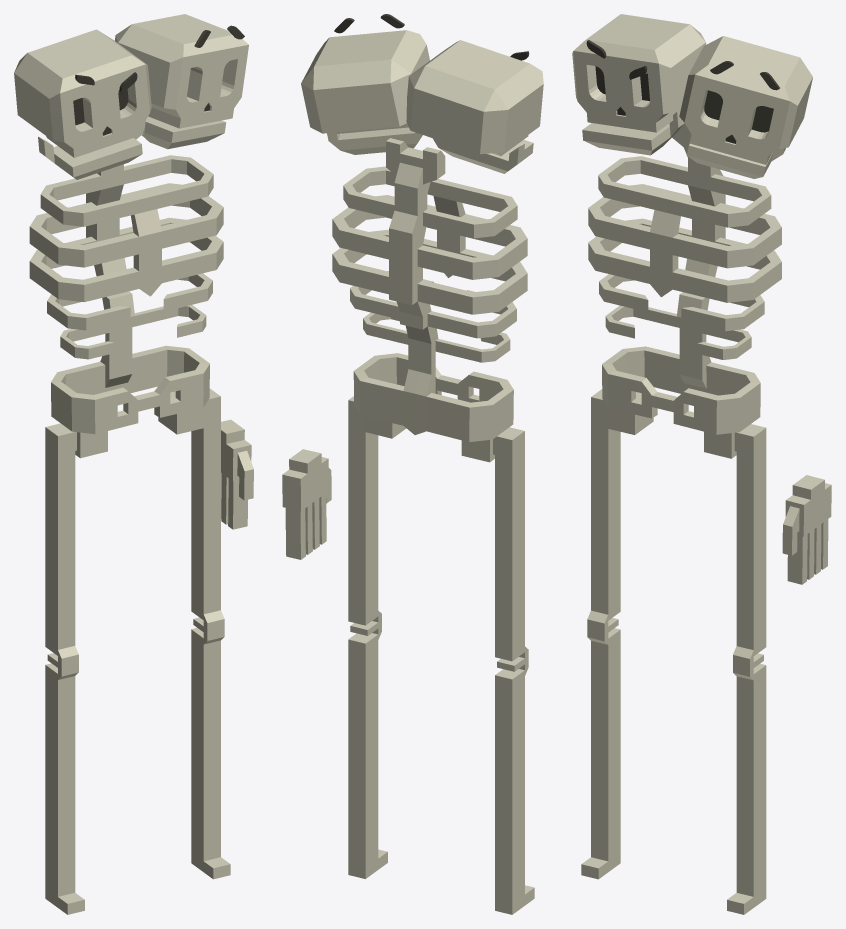
File: SkelebonesFighter.fbx
The picture shows the model from 3 angles, left to right: view 1: azimuth 30°, elevation 25°; view 2: azimuth 150°, elevation 25°; view 3: azimuth 330°, elevation 25°; orthographic projection.
Visible parts, largest first — view 1: SkelebonesFighter; view 2: SkelebonesFighter; view 3: SkelebonesFighter.
Boxes of the visible parts, left/top/right/bottom form: SkelebonesFighter: left=14, top=14, right=253, bottom=914; SkelebonesFighter: left=282, top=14, right=543, bottom=914; SkelebonesFighter: left=572, top=14, right=831, bottom=914.
Bounding box in the file's own units: 59.31 × 221 × 29.42.
